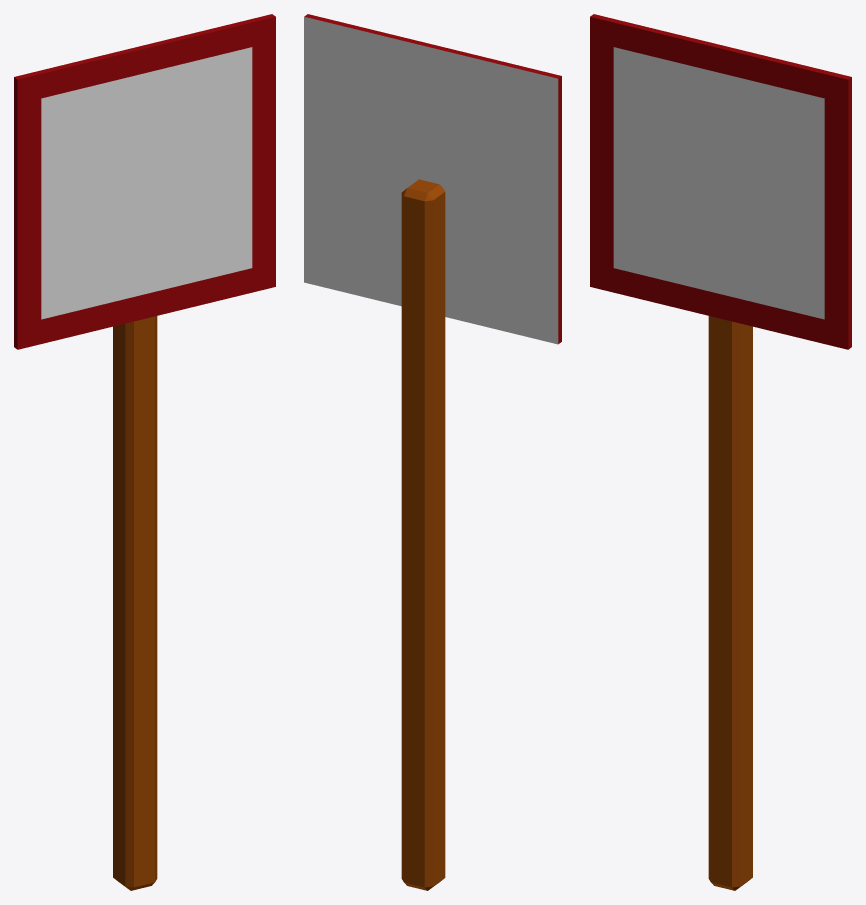
File: znak1.fbx
3 views of the same model, side by side, from view 1: azimuth 30°, elevation 25°; view 2: azimuth 150°, elevation 25°; view 3: azimuth 330°, elevation 25° (orthographic).
Parts seen in each view (by area): view 1: Cube.001, Cube; view 2: Cube.001, Cube; view 3: Cube.001, Cube.
Part boxes in pixels (x1,y1,x2,y2): Cube.001: (14,14,275,349); Cube: (113,316,157,890); Cube.001: (304,14,561,344); Cube: (401,179,445,890); Cube.001: (590,14,851,349); Cube: (708,316,752,890).
Bounding box in the file's own units: 80 × 250 × 11.2.
